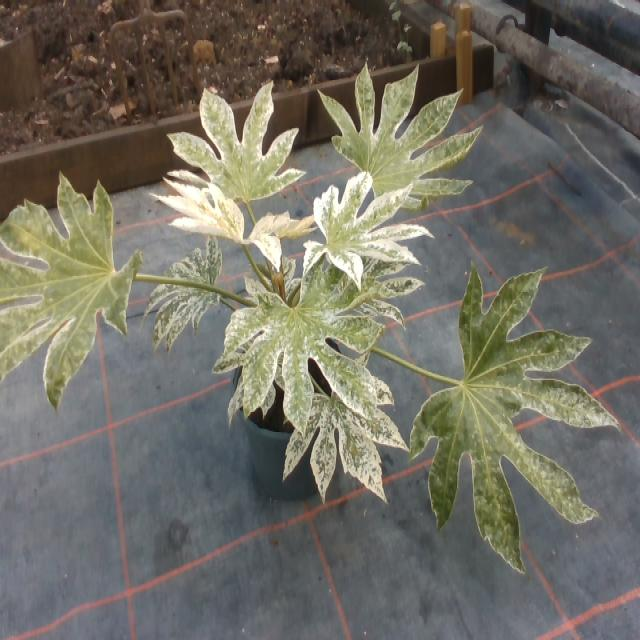Fatsia-japonica: (412, 263, 598, 576), (1, 177, 137, 409), (228, 250, 392, 425), (327, 65, 468, 214), (158, 77, 302, 206), (277, 364, 403, 498), (160, 168, 314, 275), (309, 171, 427, 282), (146, 237, 230, 351)
